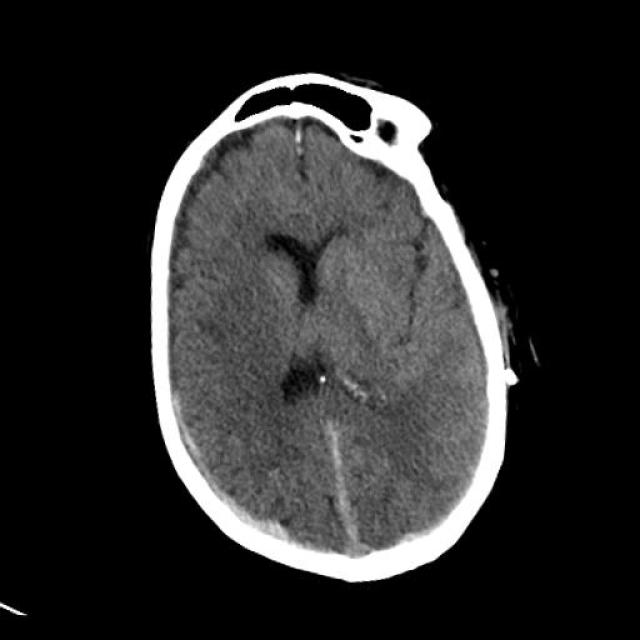Subdural: (144, 385, 328, 574)
